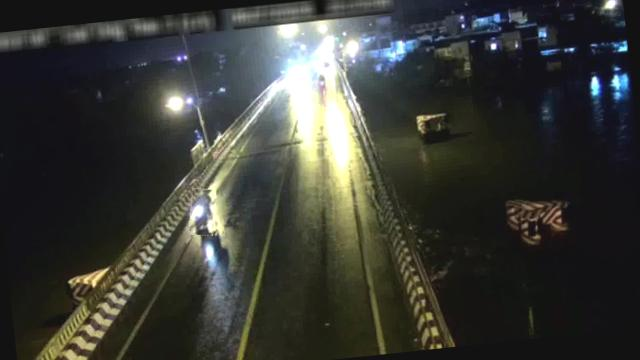Bike: (186, 187, 219, 238), (316, 70, 326, 89)
